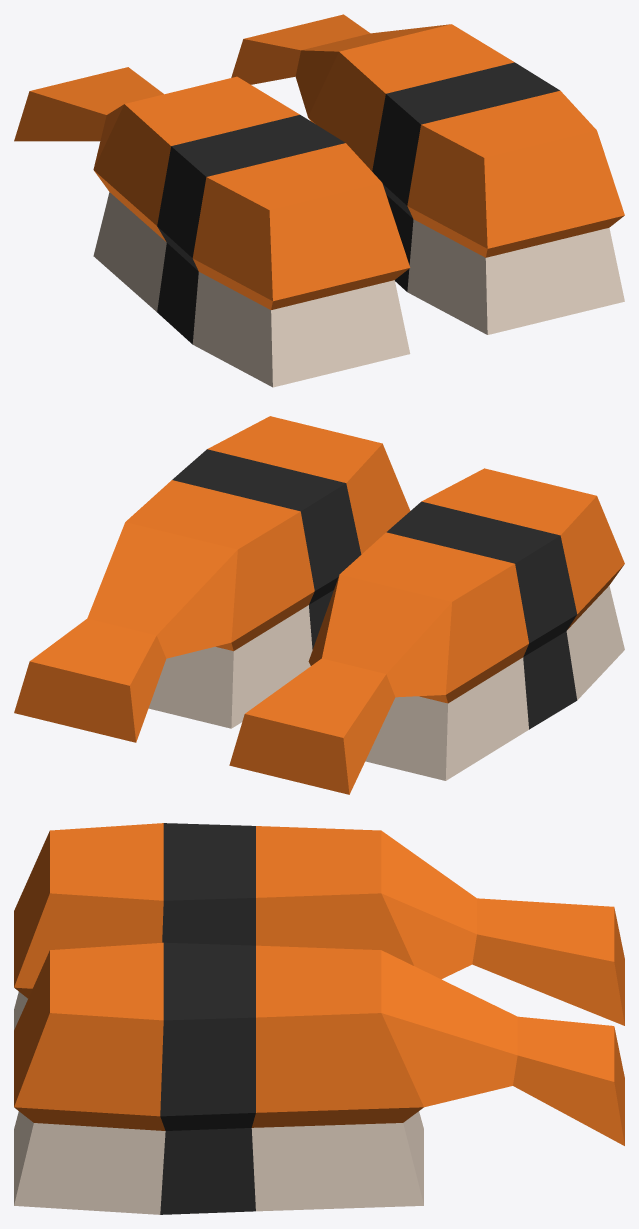
File: food_sushi-shrimp.fbx
The picture shows the model from 3 angles, top to bottom: view 1: azimuth 30°, elevation 25°; view 2: azimuth 150°, elevation 25°; view 3: azimuth 270°, elevation 25°; orthographic projection. The views are drawn at different scales.
Visible parts, largest first — view 1: food_sushi_shrimp; view 2: food_sushi_shrimp; view 3: food_sushi_shrimp.
Part boxes in pixels (x1,y1,x2,y2): food_sushi_shrimp: (14, 14, 624, 387); food_sushi_shrimp: (14, 416, 624, 794); food_sushi_shrimp: (14, 823, 624, 1214).
Size of the model in its own units: 166 by 67.17 by 200.
